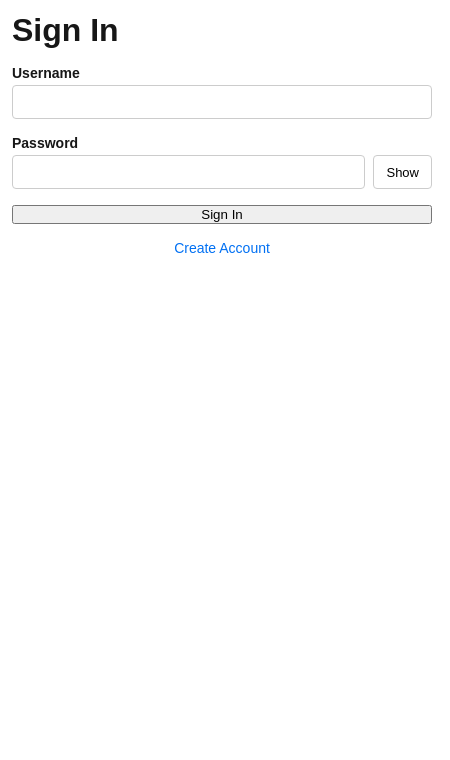
Scenario: AuthForm - create account mode › switches to create-account fields
Click the button "Create Account". click: (222,248)
box: x1=12 y1=240 x2=432 y2=256
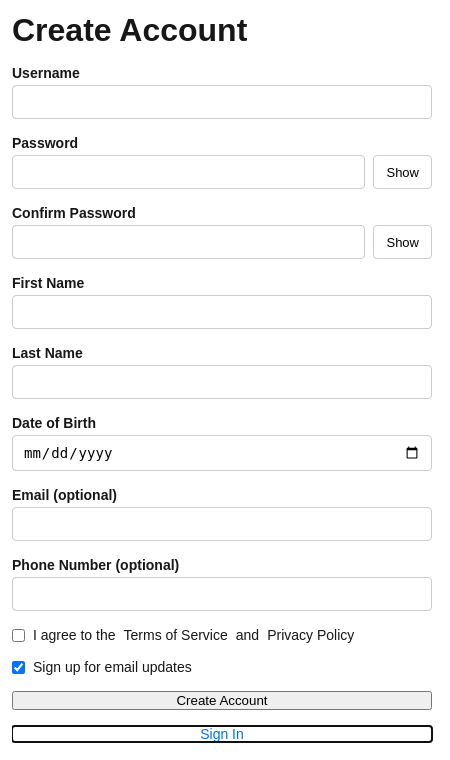
Expected: the heading "Create Account" is shown, x1=12 y1=12 x2=247 y2=48
Expected: the password field labelled "Confirm Password" is shown, x1=12 y1=225 x2=366 y2=259
Expected: the field labelled "First Name" is shown, x1=12 y1=295 x2=432 y2=329
